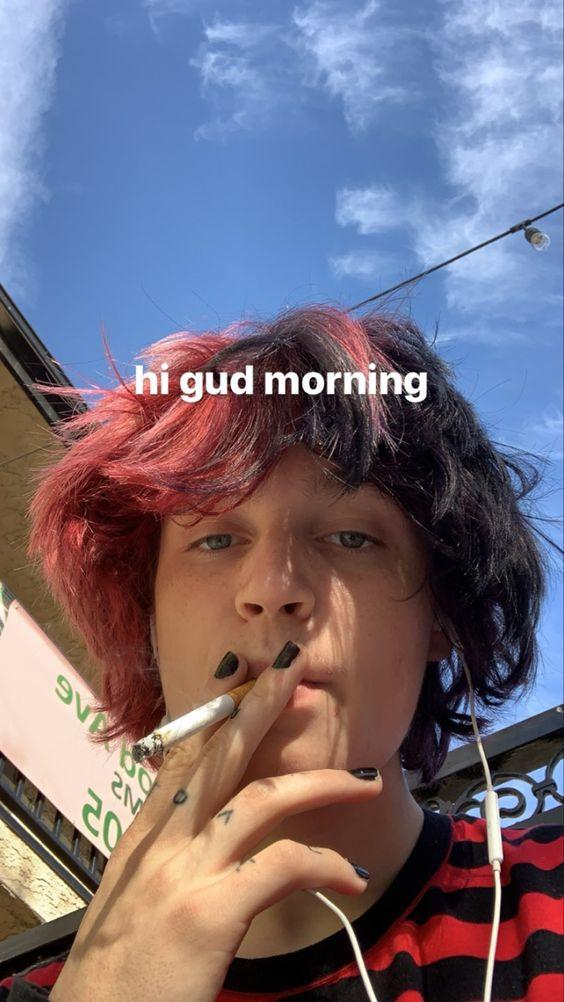cigarette: (129, 679, 258, 764)
